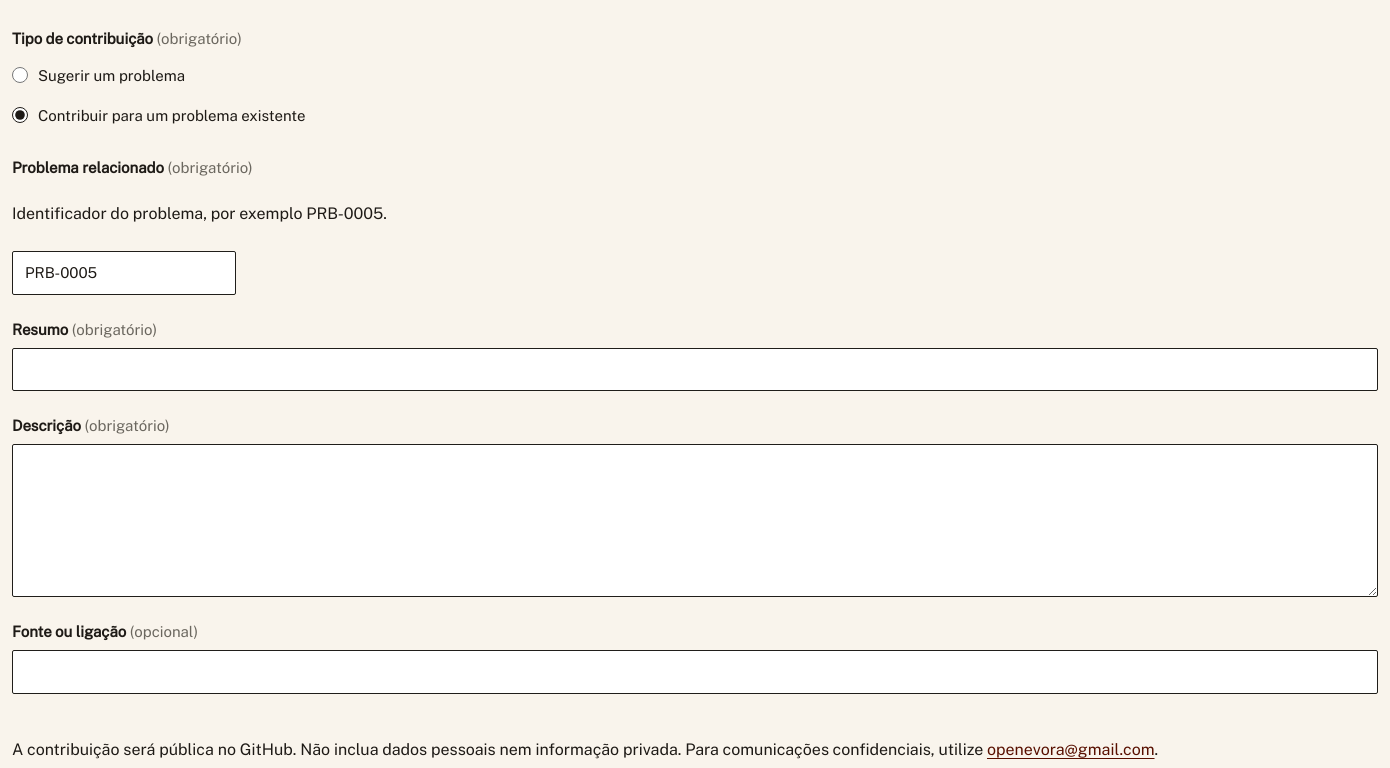
Test: ContributionForm — GitHub handoff › opens the prepared issue in a new tab, confirms with an affirmed toast and keeps the form filled
Type "Resumo" into the field labelled "Resumo (obrigatório)".
click(695, 369); type("Resumo")  # box [12, 348, 1378, 391]
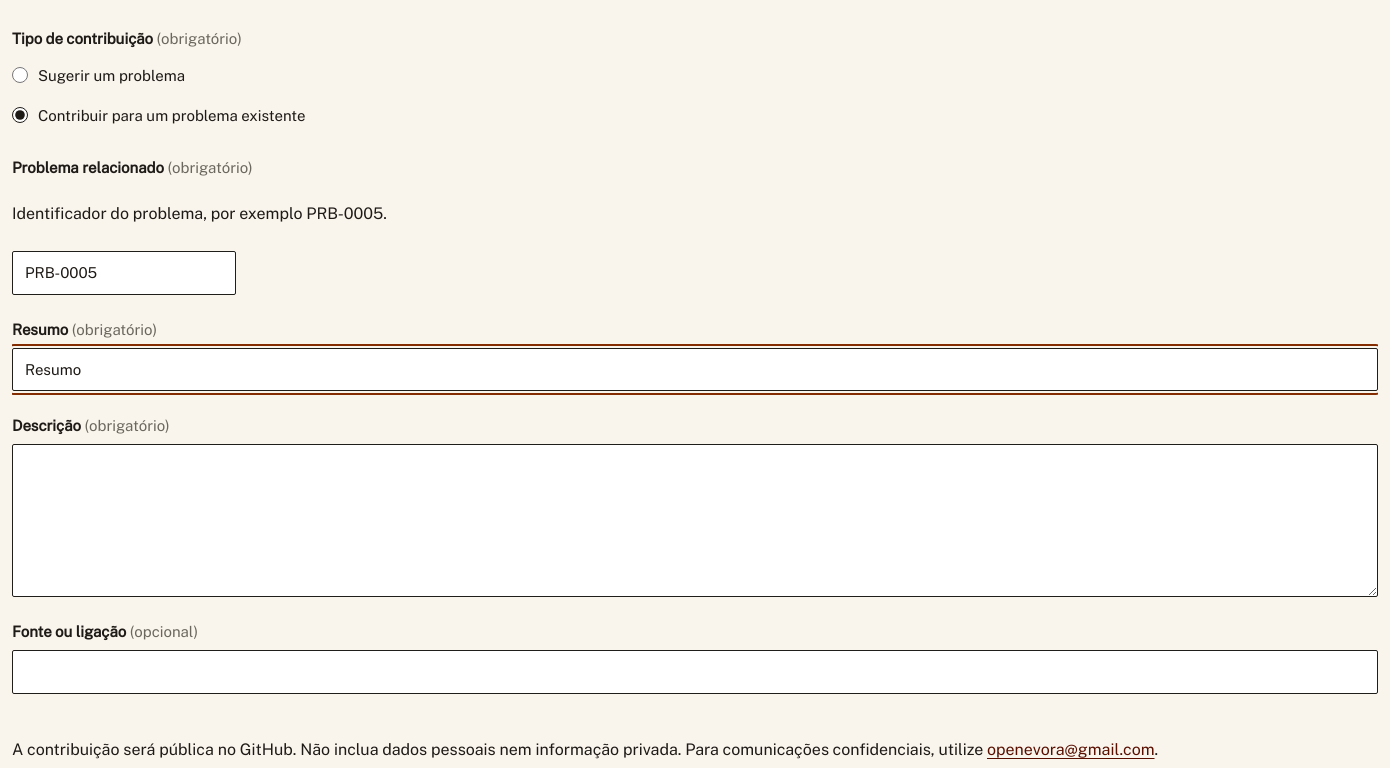
Type "Descrição" into the text box labelled "Descrição (obrigatório)".
click(695, 521); type("Descrição")  # box [12, 444, 1378, 597]
(page scrolled)
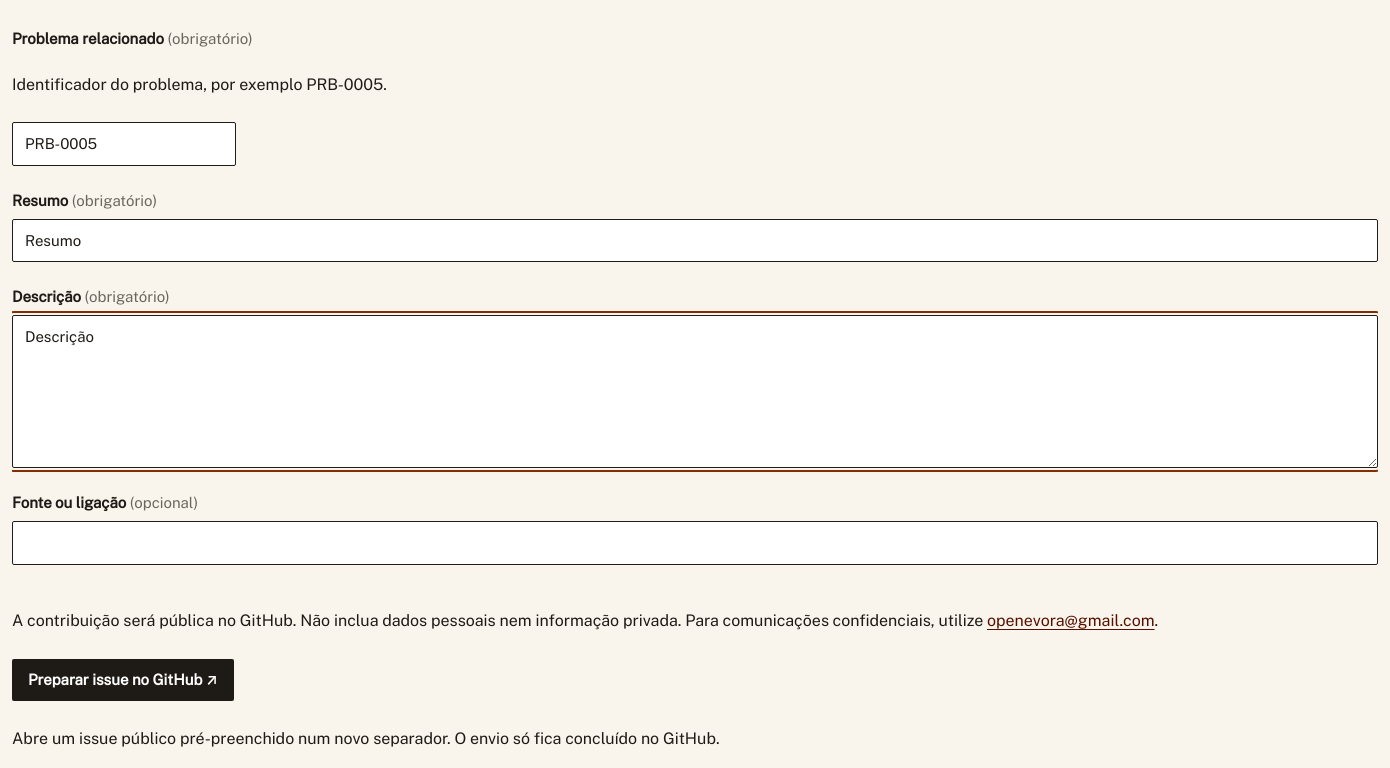
Click the button "Preparar issue no GitHub ↗".
click(123, 680)  # box [12, 659, 234, 701]
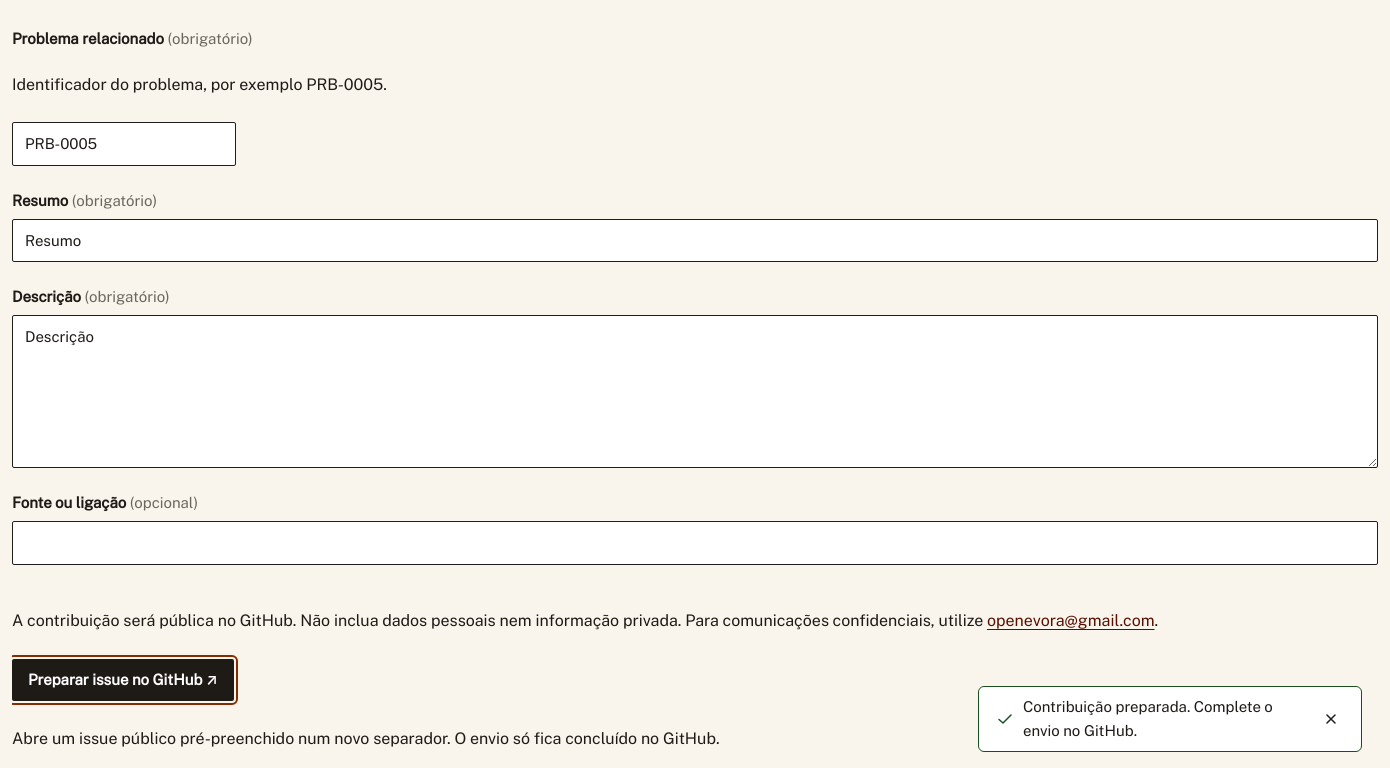
Expected: the field labelled "Problema relacionado (obrigatório)" holds "PRB-0005", [12, 122, 236, 166]
Expected: the message reads "Contribuição preparada. Complete o envio no GitHub.", [1023, 698, 1273, 739]
